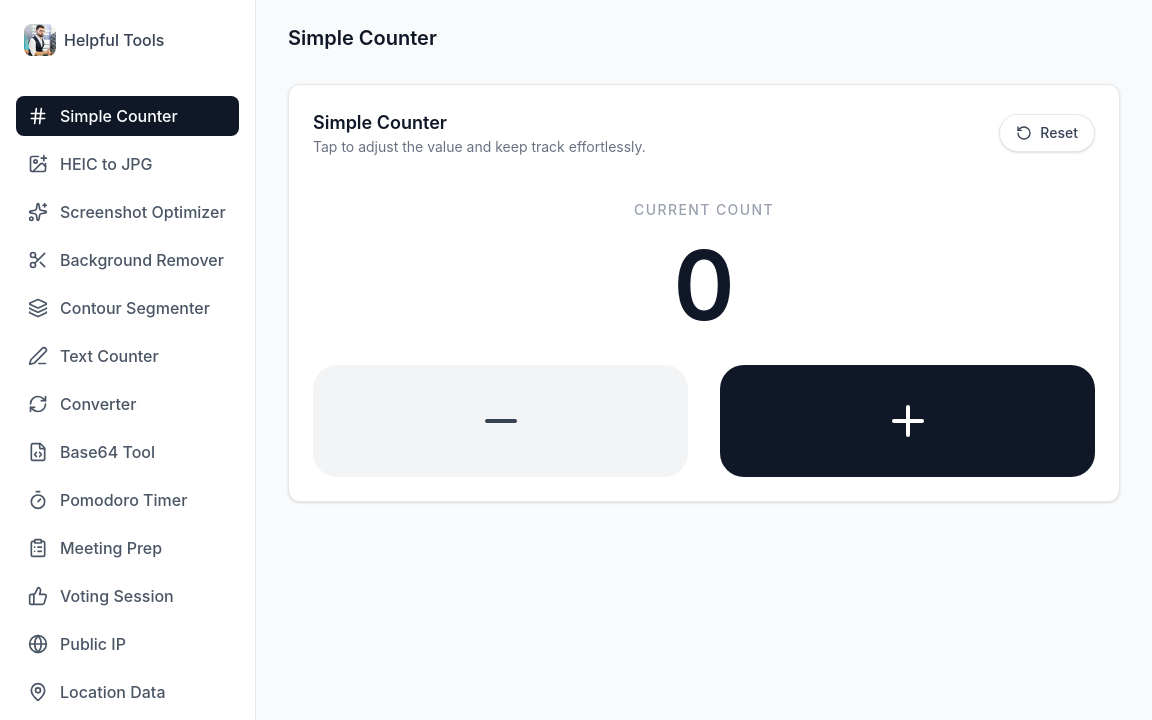
Scenario: App › renders Contour Segmenter when selecting Contour Segmenter
Click the button "Contour Segmenter".
click(128, 308)  # box left=16, top=288, right=239, bottom=328
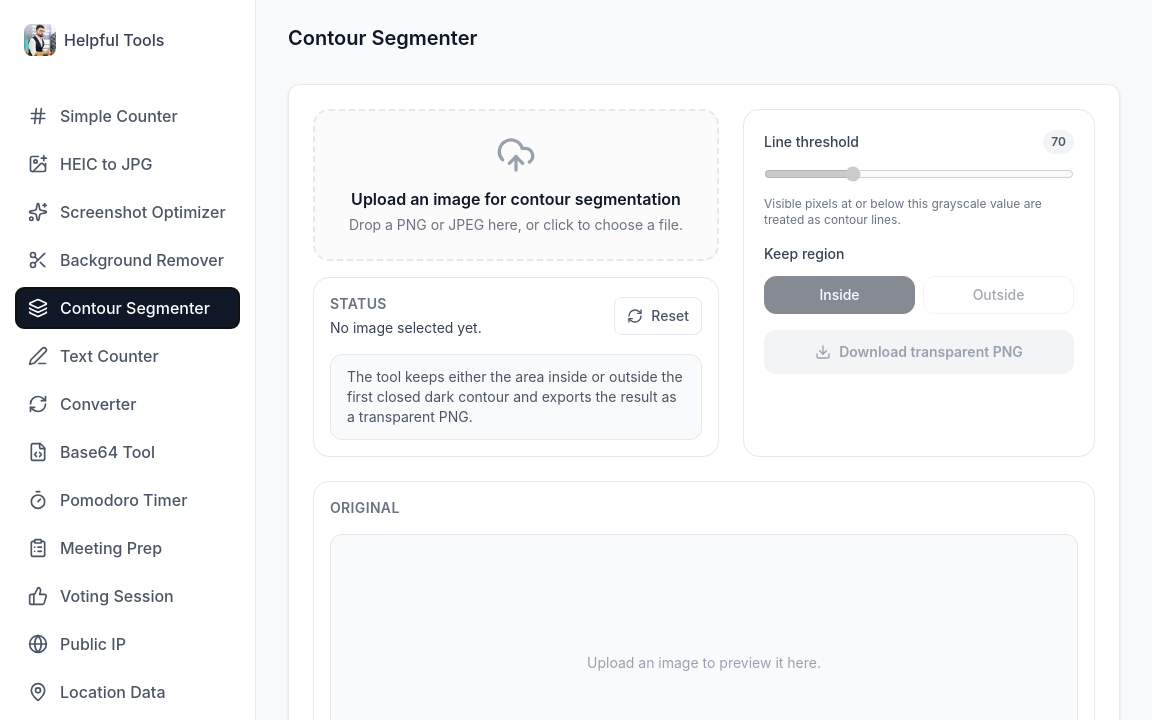
Now the heading "Contour Segmenter" is shown, box left=288, top=24, right=478, bottom=52
Now the text "Upload an image for contour segmentation" is shown, box left=349, top=187, right=683, bottom=211
